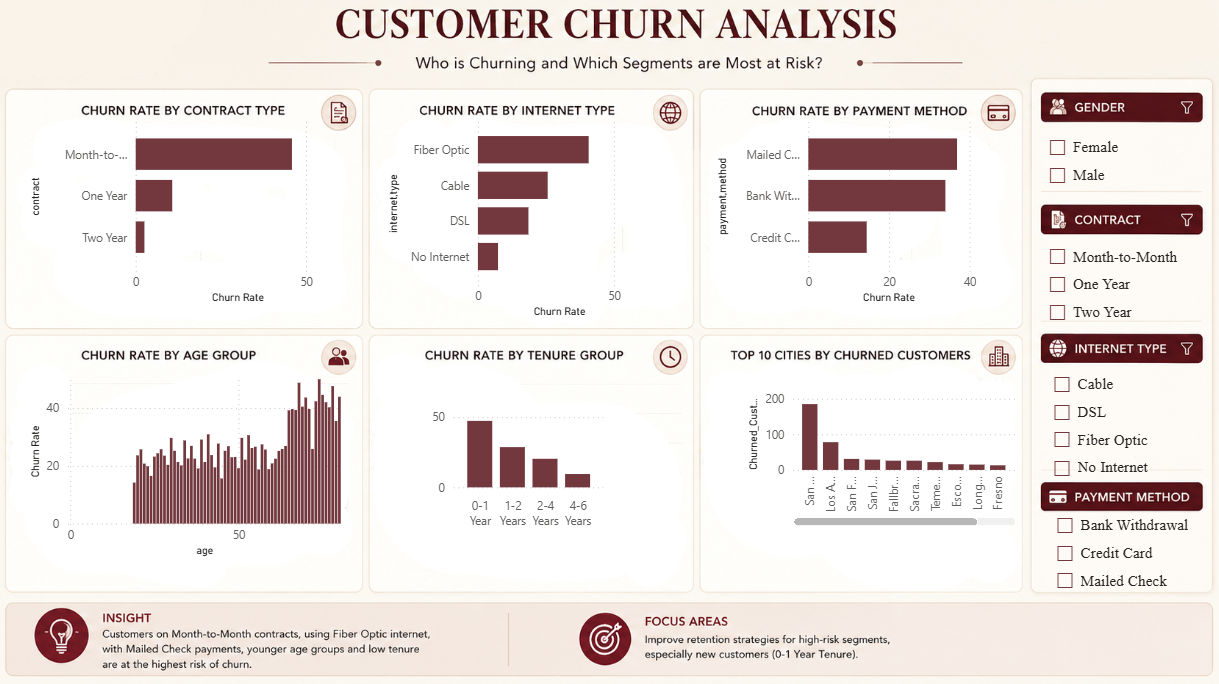

This screenshot's page, from the dashboard's own definition file:
{"tool":"powerbi","page":{"name":"Page 2","canvas":[1280,720],"ordinal":2},"visuals":[{"type":"clusteredBarChart","fields":{"Category":["telecom_churn_new_sql.internet,type"],"Y":["telecom_churn_new_sql.Churn Rate"]},"box":[405,115,280,221.7],"z":0},{"type":"clusteredBarChart","fields":{"Category":["telecom_churn_new_sql.contract"],"Y":["telecom_churn_new_sql.Churn Rate"]},"box":[31.7,115,340,206.7],"z":1000},{"type":"clusteredBarChart","fields":{"Y":["telecom_churn_new_sql.Churn Rate"],"Category":["telecom_churn_new_sql.payment,method"]},"box":[746.7,115,280,206.7],"z":2000},{"type":"clusteredColumnChart","fields":{"Category":["telecom_churn_new_sql.age"],"Y":["telecom_churn_new_sql.Churn Rate"]},"box":[31.7,383.3,340,203.3],"z":3000},{"type":"clusteredColumnChart","fields":{"Category":["telecom_churn_new_sql.tenure,group"],"Y":["telecom_churn_new_sql.Churn Rate"]},"box":[450.5,407.9,189.3,152.6],"z":4000},{"type":"columnChart","fields":{"Category":["telecom_churn_new_sql.city"],"Y":["telecom_churn_new_sql.Churned_Customers"]},"box":[779.2,403.5,287.6,151.1],"z":5000},{"type":"slicer","fields":{"Values":["telecom_churn_new_sql.gender"]},"box":[1086.7,136.7,171.7,81.7],"z":6000},{"type":"slicer","fields":{"Values":["telecom_churn_new_sql.contract"]},"box":[1086.7,250,171.7,98.3],"z":7000},{"type":"slicer","fields":{"Values":["telecom_churn_new_sql.internet,type"]},"box":[1090,383.3,165,138.3],"z":8000},{"type":"slicer","fields":{"Values":["telecom_churn_new_sql.payment,method"]},"box":[1093.3,530,165,105],"z":9000}]}

Visuals, with their boxes in screenshot pixels (x1, y1, x2, y2), scaled from the page's 1280x720 canvas onto the 1219x684 screenshot:
clusteredBarChart - telecom_churn_new_sql.internet,type x telecom_churn_new_sql.Churn Rate: BBox(386, 109, 652, 320)
clusteredBarChart - telecom_churn_new_sql.contract x telecom_churn_new_sql.Churn Rate: BBox(30, 109, 354, 306)
clusteredBarChart - telecom_churn_new_sql.Churn Rate x telecom_churn_new_sql.payment,method: BBox(711, 109, 978, 306)
clusteredColumnChart - telecom_churn_new_sql.age x telecom_churn_new_sql.Churn Rate: BBox(30, 364, 354, 557)
clusteredColumnChart - telecom_churn_new_sql.tenure,group x telecom_churn_new_sql.Churn Rate: BBox(429, 388, 609, 532)
columnChart - telecom_churn_new_sql.city x telecom_churn_new_sql.Churned_Customers: BBox(742, 383, 1016, 527)
slicer - telecom_churn_new_sql.gender: BBox(1035, 130, 1198, 207)
slicer - telecom_churn_new_sql.contract: BBox(1035, 238, 1198, 331)
slicer - telecom_churn_new_sql.internet,type: BBox(1038, 364, 1195, 496)
slicer - telecom_churn_new_sql.payment,method: BBox(1041, 504, 1198, 603)
